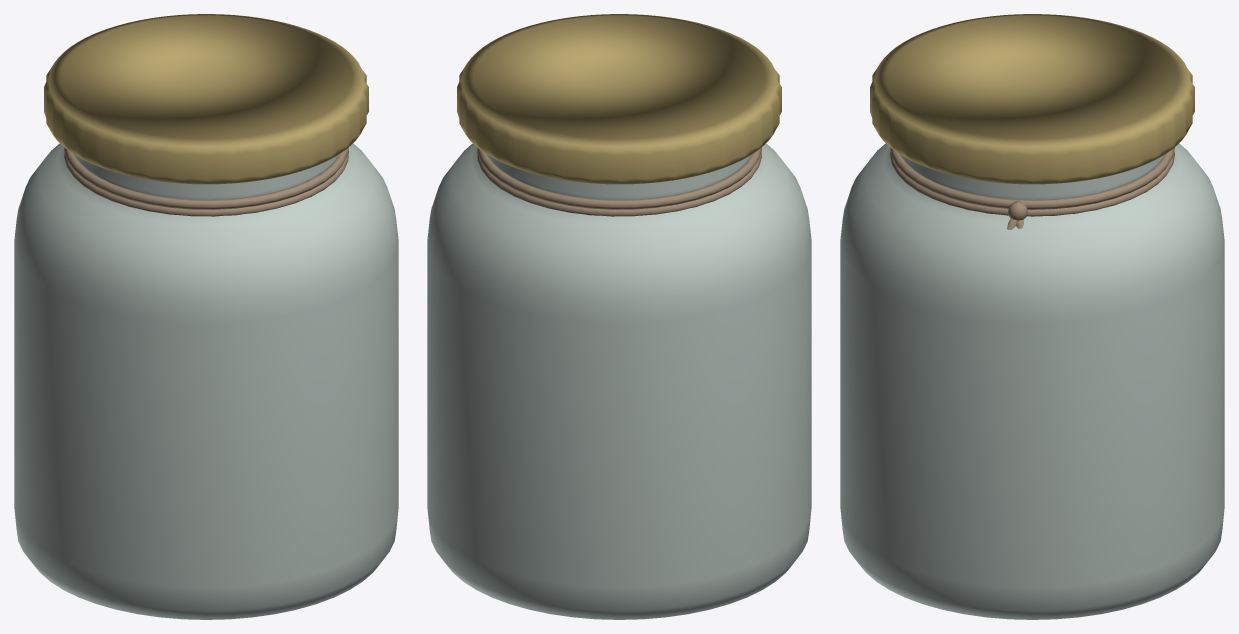
The model's file is SoulJar.fbx.
The picture shows the model from 3 angles, left to right: view 1: azimuth 30°, elevation 25°; view 2: azimuth 150°, elevation 25°; view 3: azimuth 270°, elevation 25°; orthographic projection.
Parts seen in each view (by area): view 1: SoulJar; view 2: SoulJar; view 3: SoulJar.
Part boxes in pixels (left/top/right/bottom): SoulJar: left=14, top=14, right=398, bottom=619; SoulJar: left=427, top=14, right=811, bottom=619; SoulJar: left=840, top=14, right=1224, bottom=619.
Size of the model in its own units: 15.8 by 21.45 by 15.8.
